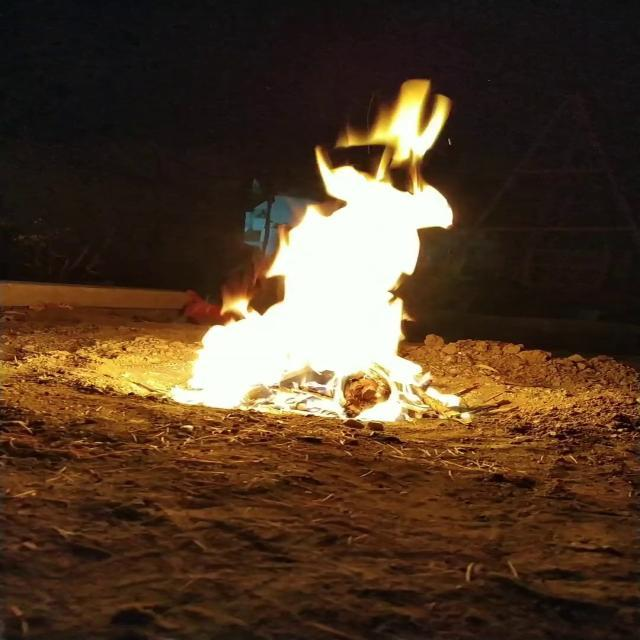Fire: (176, 68, 477, 422)
